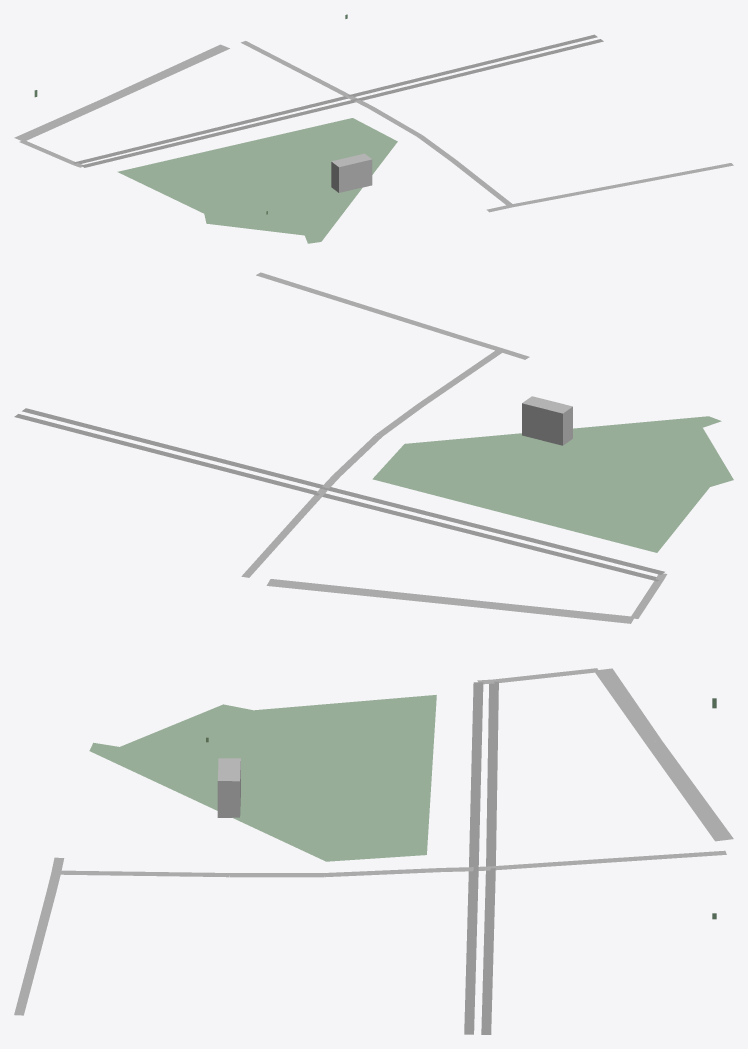
The picture shows the model from 3 angles, top to bottom: view 1: azimuth 30°, elevation 25°; view 2: azimuth 150°, elevation 25°; view 3: azimuth 270°, elevation 25°; orthographic projection. The views are drawn at different scales.
Size of the model in its own units: 624 by 30.12 by 511.
